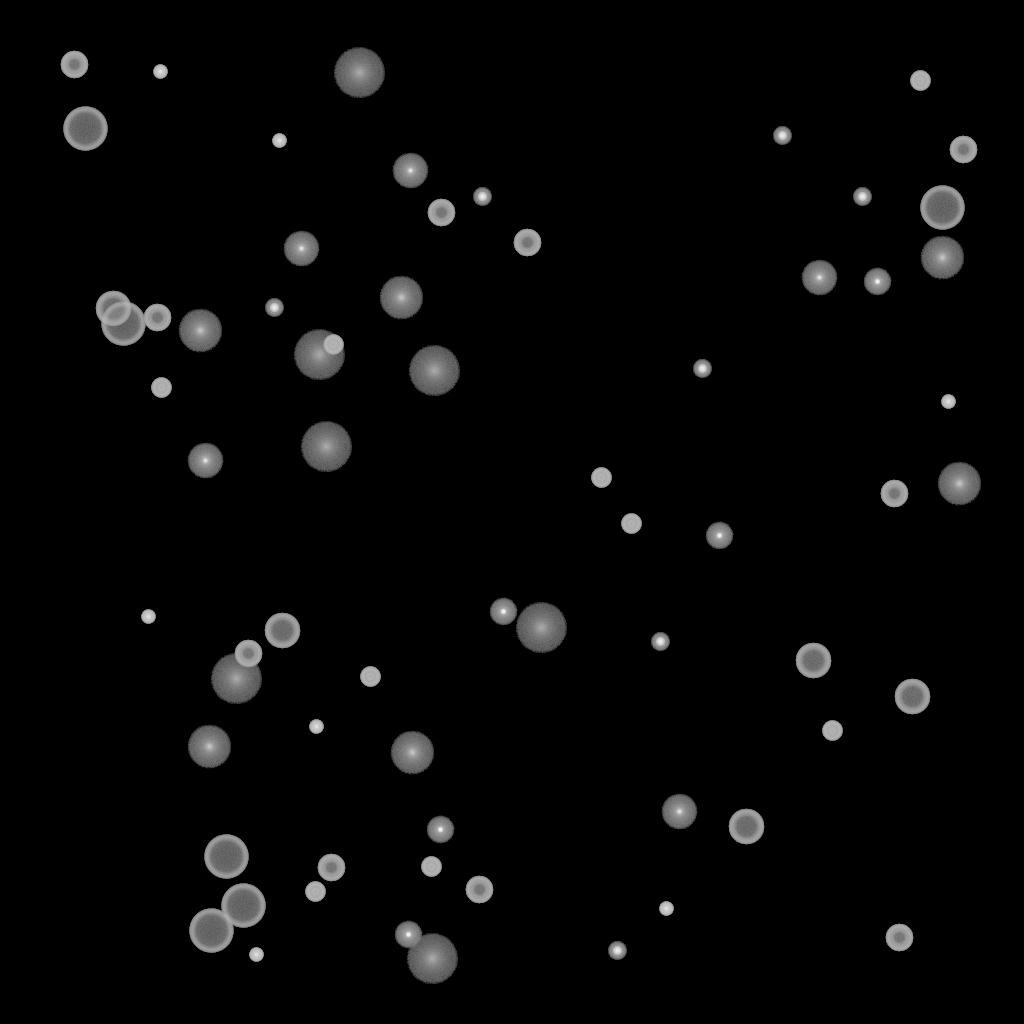depth:-10: (705, 522, 733, 550), (863, 268, 891, 296), (394, 921, 422, 949), (489, 598, 517, 626), (426, 816, 454, 844)
depth:-20: (853, 188, 871, 206), (608, 942, 626, 960), (651, 633, 669, 651), (265, 299, 283, 317), (473, 188, 491, 206), (693, 360, 711, 378), (773, 127, 791, 145)
depth:-30: (141, 610, 155, 624), (941, 395, 955, 409), (659, 902, 673, 916), (309, 720, 323, 734), (272, 134, 286, 148), (249, 948, 263, 962), (153, 65, 167, 79)
depth:-40: (323, 335, 343, 355), (151, 378, 171, 398), (421, 857, 441, 877), (910, 71, 930, 91), (822, 721, 842, 741), (305, 882, 325, 902), (621, 514, 641, 534), (360, 667, 380, 687), (591, 468, 611, 488)
depth:-50: (465, 876, 493, 904), (949, 136, 977, 164), (60, 51, 88, 79), (234, 640, 262, 668), (317, 854, 345, 882), (513, 229, 541, 257), (143, 304, 171, 332), (427, 199, 455, 227), (880, 480, 908, 508), (885, 924, 913, 952)
depth:-60: (894, 679, 930, 715), (728, 809, 764, 845), (264, 613, 300, 649), (95, 291, 131, 327), (795, 643, 831, 679)
depth:-70: (221, 884, 265, 928), (204, 835, 248, 879), (189, 909, 233, 953), (63, 107, 107, 151), (101, 302, 145, 346), (920, 186, 964, 230)
depth:0: (661, 794, 697, 830), (283, 231, 319, 267), (187, 443, 223, 479), (392, 153, 428, 189), (801, 260, 837, 296)
depth:10: (920, 236, 964, 280), (937, 462, 981, 506), (178, 309, 222, 353), (187, 725, 231, 769), (390, 731, 434, 775), (379, 276, 423, 320)
depth:20: (333, 48, 385, 98), (210, 654, 262, 704), (408, 346, 460, 396), (293, 330, 345, 380), (406, 934, 458, 984), (300, 422, 352, 472), (515, 603, 567, 653)
